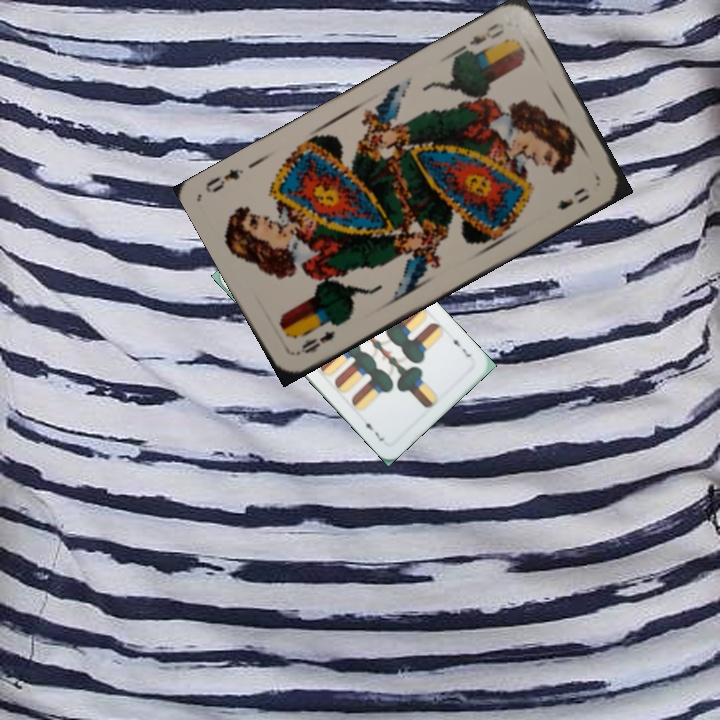E7: (447, 331, 473, 360)
EO: (455, 18, 508, 58), (293, 326, 337, 358)
